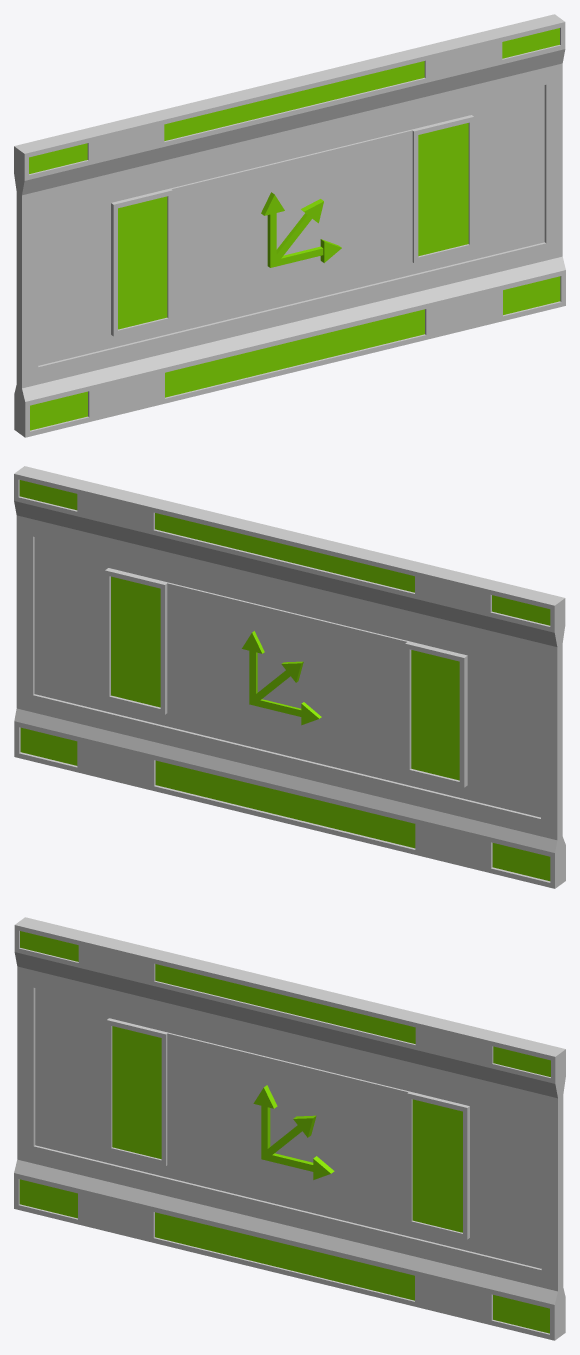
Rendered from door.fbx.
The picture shows the model from 3 angles, top to bottom: view 1: azimuth 30°, elevation 25°; view 2: azimuth 150°, elevation 25°; view 3: azimuth 330°, elevation 25°; orthographic projection.
Visible parts, largest first — view 1: Cube, Cube.002; view 2: Cube, Cube.001; view 3: Cube, Cube.002.
Part boxes in pixels (x1=…): Cube: x1=14, y1=14, x2=565, y2=437; Cube.002: x1=267, y1=213, x2=323, y2=267; Cube: x1=14, y1=466, x2=565, y2=888; Cube.001: x1=249, y1=651, x2=301, y2=716; Cube: x1=14, y1=917, x2=565, y2=1340; Cube.002: x1=261, y1=1105, x2=313, y2=1171.
Bounding box in the file's own units: 1080 × 541 × 38.88.
